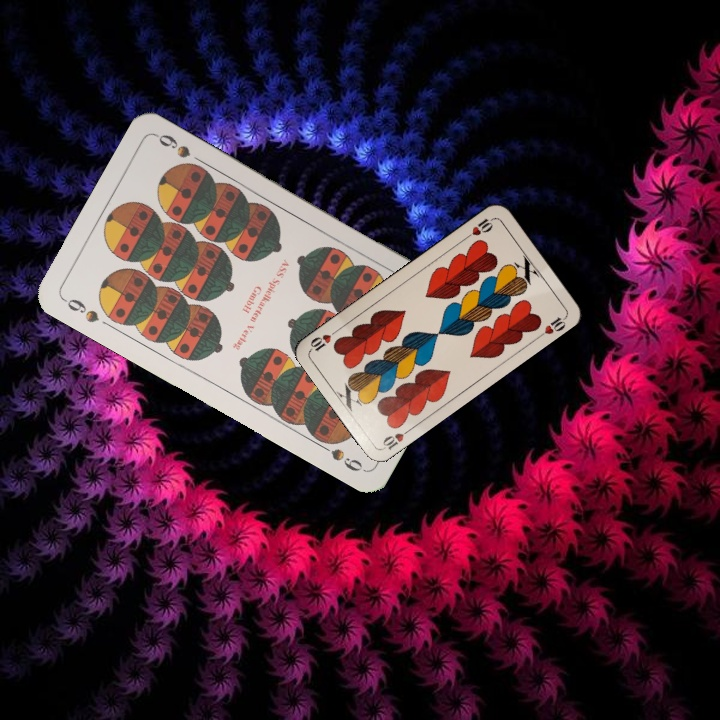H10: (379, 424, 415, 452), (461, 214, 496, 242)
S9: (59, 294, 102, 326)
